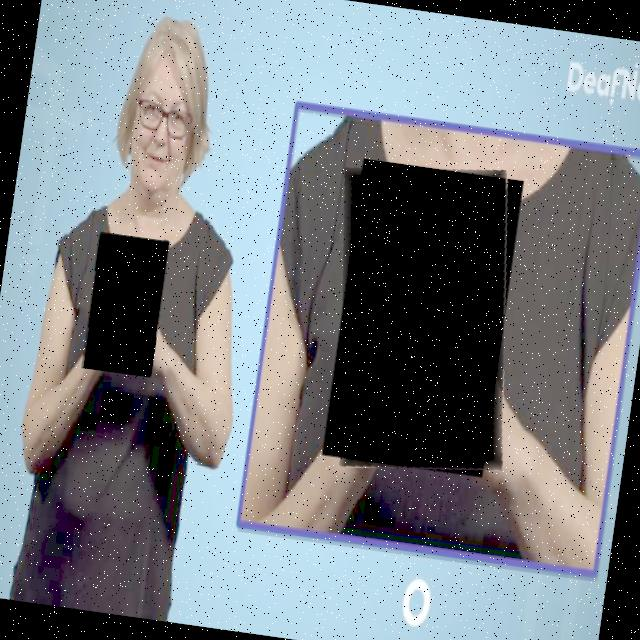O: (314, 156, 536, 486), (83, 233, 172, 379)
